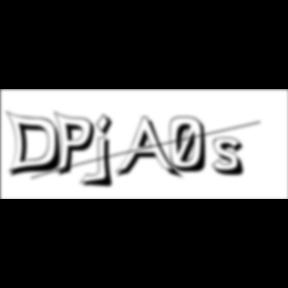0: (170, 115, 214, 174)
A: (116, 116, 184, 182)
D: (5, 110, 68, 180)
P: (54, 110, 101, 180)
j: (92, 113, 120, 191)
s: (212, 137, 252, 179)
